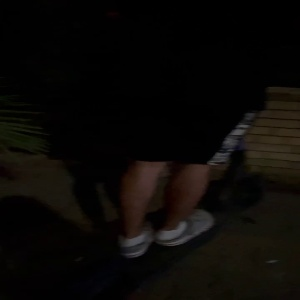human on a scooter: (75, 1, 274, 298)
